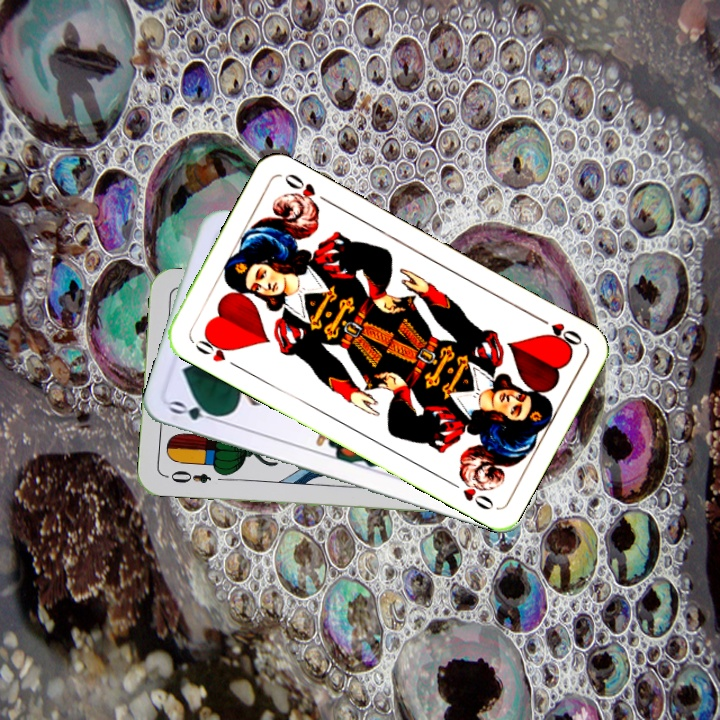EO: (161, 466, 214, 486)
GO: (165, 396, 225, 425)
HO: (532, 312, 585, 351), (191, 331, 242, 371)
